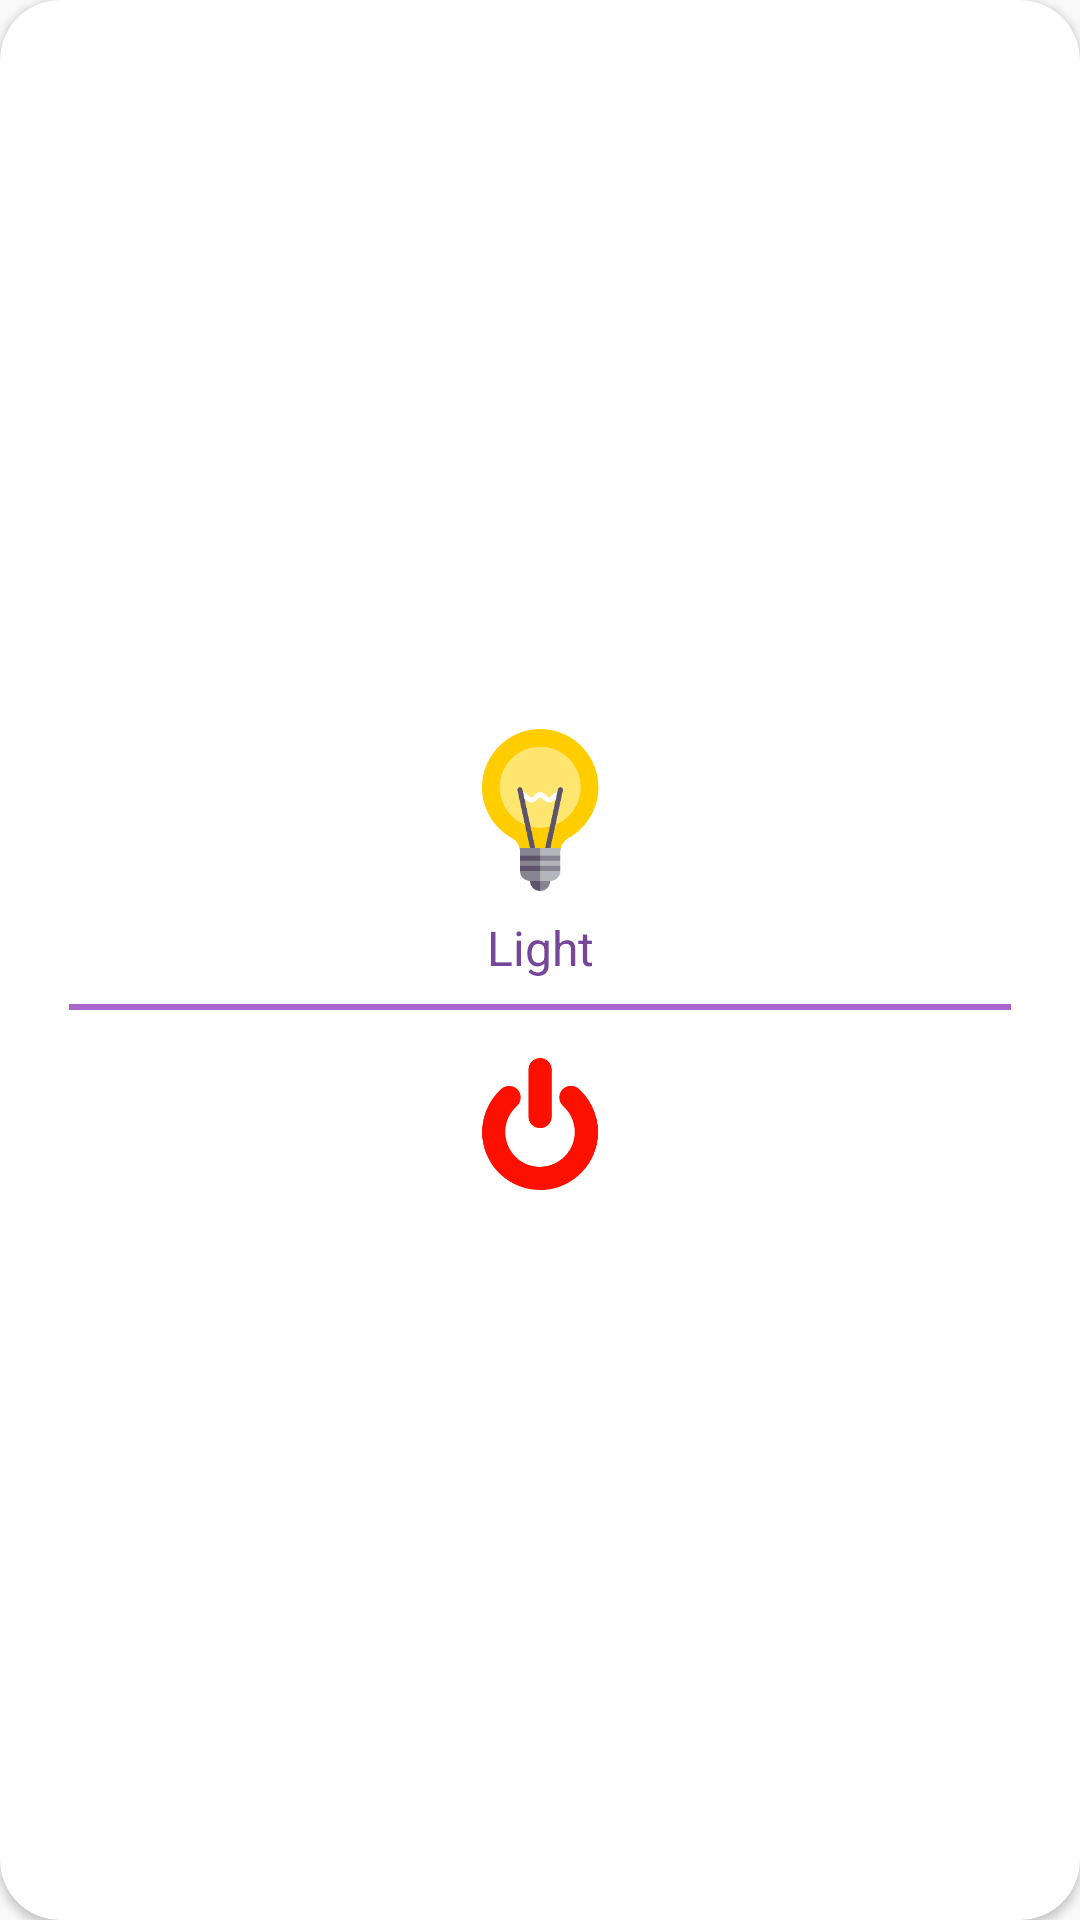

Named icons in this screenshot (1080×1920) and their centers, (x=x, y=y):
bulb: (x=540, y=810)
off: (x=540, y=1124)
